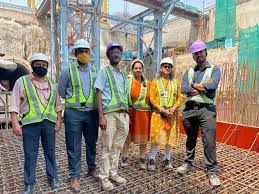arm: (146, 78, 174, 117), (6, 77, 23, 135), (54, 65, 69, 127), (94, 67, 108, 129)
face: (107, 44, 124, 61), (31, 59, 49, 75), (191, 46, 207, 62), (159, 61, 173, 75), (131, 62, 145, 76)
footwear: (96, 172, 116, 192), (204, 167, 223, 186), (173, 158, 195, 174), (66, 174, 82, 193), (45, 176, 62, 193), (19, 182, 35, 194)
glove: (8, 118, 22, 136), (53, 115, 64, 132), (160, 104, 174, 117), (97, 113, 108, 129)
helmet: (29, 50, 52, 75), (75, 47, 93, 63), (158, 53, 175, 67)
human: (10, 49, 61, 194), (181, 36, 226, 186), (58, 38, 101, 192), (97, 39, 134, 190), (144, 51, 189, 172)
leg: (197, 104, 225, 186), (102, 111, 129, 191), (172, 104, 200, 175), (63, 109, 84, 192), (17, 122, 39, 194), (40, 121, 61, 193), (84, 111, 100, 181)
noglove: (97, 113, 109, 129)
nogoggle: (33, 61, 48, 68), (192, 49, 206, 56), (160, 63, 172, 70)
nohelmet: (29, 50, 52, 74), (105, 40, 125, 61), (188, 37, 208, 55)
vest: (16, 73, 57, 125), (63, 62, 97, 113), (100, 63, 131, 114), (149, 74, 182, 114), (188, 62, 217, 95), (129, 73, 150, 115)
